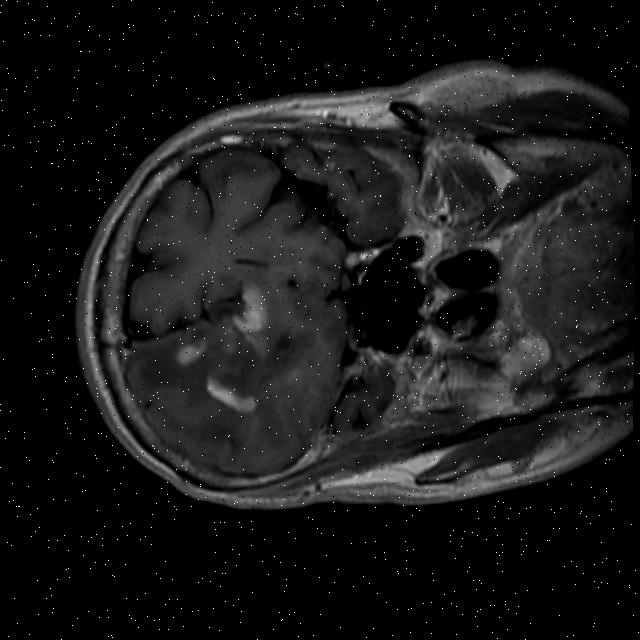Glioma: (205, 371, 257, 417), (227, 281, 269, 337), (174, 340, 207, 365)
